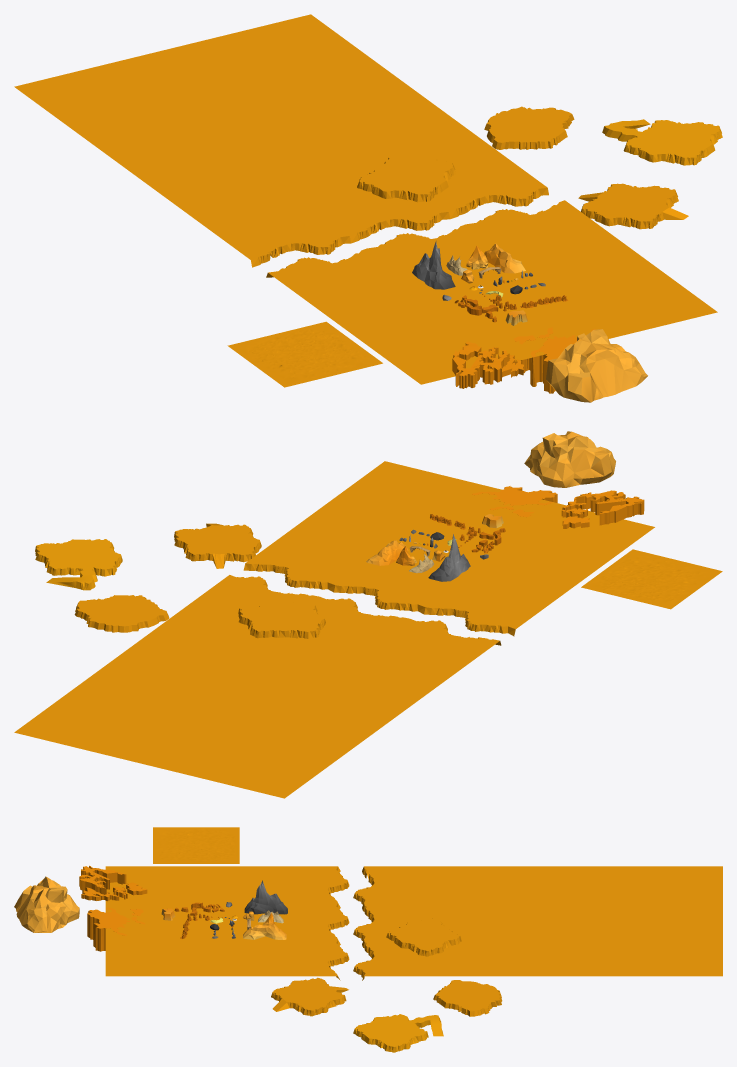
The model's file is SceneA1.fbx.
3 renders of one model, top to bottom at view 1: azimuth 30°, elevation 25°; view 2: azimuth 150°, elevation 25°; view 3: azimuth 270°, elevation 25°, orthographic. The views are drawn at different scales.
Visible parts, largest first — view 1: Landscape.021, Landscape, RHE_CaveTop.007, Landscape.018, Landscape.016, Landscape.025, Landscape.026, Landscape.001, Landscape.010, Retopo_Landscape, Retopo_Landscape.002; view 2: Landscape.021, Landscape, RHE_CaveTop.007, Landscape.018, Landscape.016, Landscape.025, Landscape.026, Landscape.001, Landscape.010, Retopo_Landscape; view 3: Landscape.021, Landscape, RHE_CaveTop.007, Landscape.018, Landscape.016, Landscape.025, Landscape.026, Landscape.001, Landscape.010, Retopo_Landscape, Retopo_Landscape.002.
Part boxes in pixels (x1,y1,x2,y2): Landscape.021: (14,14,717,384); Landscape: (227,321,382,387); RHE_CaveTop.007: (546,329,647,402); Landscape.018: (602,119,722,165); Landscape.016: (578,183,688,229); Landscape.025: (357,156,455,202); Landscape.026: (484,106,574,149); Landscape.001: (452,350,523,388); Landscape.010: (530,328,595,393); Retopo_Landscape: (412,241,455,289); Retopo_Landscape.002: (484,243,525,273); Landscape.021: (14,461,654,798); Landscape: (581,549,722,609); RHE_CaveTop.007: (524,431,615,487); Landscape.018: (35,539,122,590); Landscape.016: (174,523,261,568); Landscape.025: (238,601,325,638); Landscape.026: (74,595,169,632); Landscape.001: (562,490,644,525); Landscape.010: (471,486,557,505); Retopo_Landscape: (428,534,470,581); Landscape.021: (105,866,722,980); Landscape: (153,827,239,863); RHE_CaveTop.007: (14,876,79,932); Landscape.018: (353,1014,443,1052); Landscape.016: (271,977,348,1016); Landscape.025: (386,918,461,956); Landscape.026: (433,980,502,1016); Landscape.001: (79,865,126,901); Landscape.010: (87,907,130,951); Retopo_Landscape: (244,880,287,914); Retopo_Landscape.002: (243,924,286,939).
Size of the model in its own units: 300889 by 34972 by 409036.
